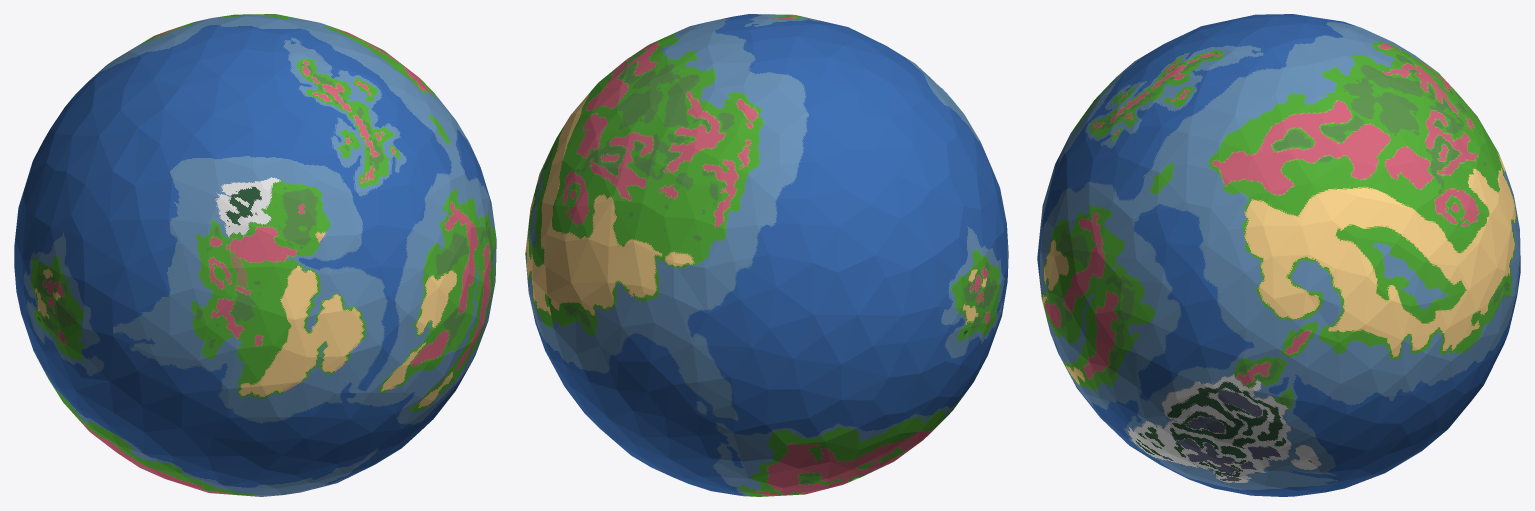
Rendered from midgard_minimap.glb.
3 views of the same model, side by side, from view 1: azimuth 30°, elevation 25°; view 2: azimuth 150°, elevation 25°; view 3: azimuth 270°, elevation 25° (orthographic).
Parts seen in each view (by area): view 1: Water.001; view 2: Water.001; view 3: Water.001.
Boxes of the visible parts, x1,y1,x2,y2 form: Water.001: [14, 14, 496, 496]; Water.001: [525, 14, 1008, 496]; Water.001: [1037, 14, 1520, 496].
Bounding box in the file's own units: 2 × 2 × 2.
1 material, 1 textured.
